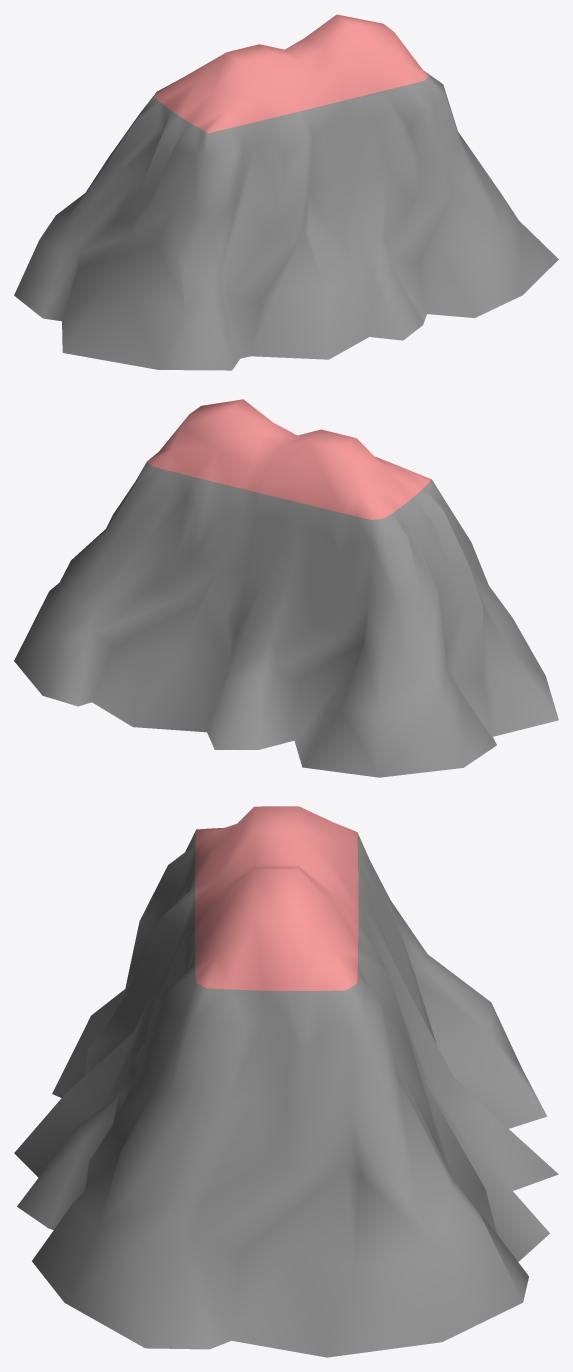
Rendered from beachBstone1.gltf.
3 renders of one model, top to bottom at view 1: azimuth 30°, elevation 25°; view 2: azimuth 150°, elevation 25°; view 3: azimuth 270°, elevation 25°, orthographic. The views are drawn at different scales.
Visible parts, largest first — view 1: beachBstone1; view 2: beachBstone1; view 3: beachBstone1.
Boxes of the visible parts, <box> form: beachBstone1: <box>14,14,558,370</box>; beachBstone1: <box>14,399,558,777</box>; beachBstone1: <box>14,806,558,1357</box>.
Bounding box in the file's own units: 13.19 × 6.49 × 8.91.
